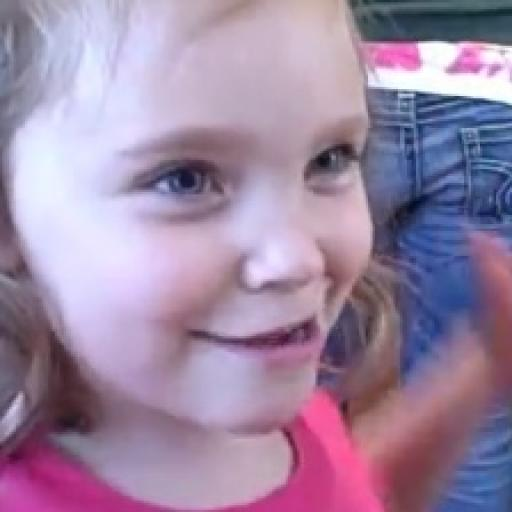Autism: (7, 0, 413, 477)
